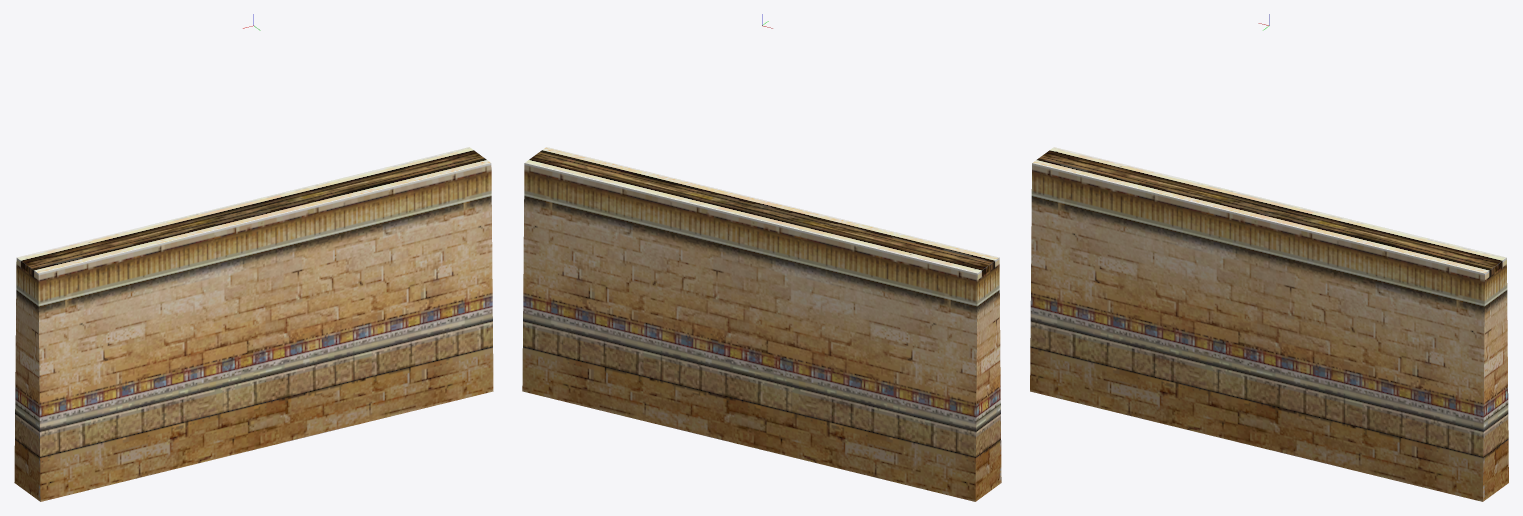
The model's file is egyptian-wall-long.glb.
3 renders of one model, left to right at view 1: azimuth 30°, elevation 25°; view 2: azimuth 150°, elevation 25°; view 3: azimuth 330°, elevation 25°, orthographic.
Parts seen in each view (by area): view 1: building e walllong age2Model; view 2: building e walllong age2Model; view 3: building e walllong age2Model.
Part boxes in pixels (x1=…): building e walllong age2Model: x1=14, y1=147, x2=493, y2=501; building e walllong age2Model: x1=522, y1=147, x2=1001, y2=501; building e walllong age2Model: x1=1030, y1=147, x2=1508, y2=501.
Size of the model in its own units: 10 by 8.93 by 0.9961.
Materials: 3 (2 with a texture image).
